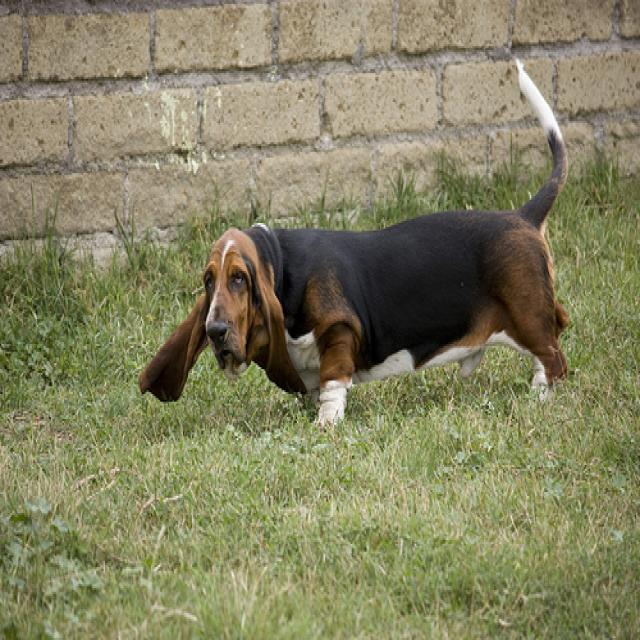dog-basset_hound: (129, 38, 577, 434)
